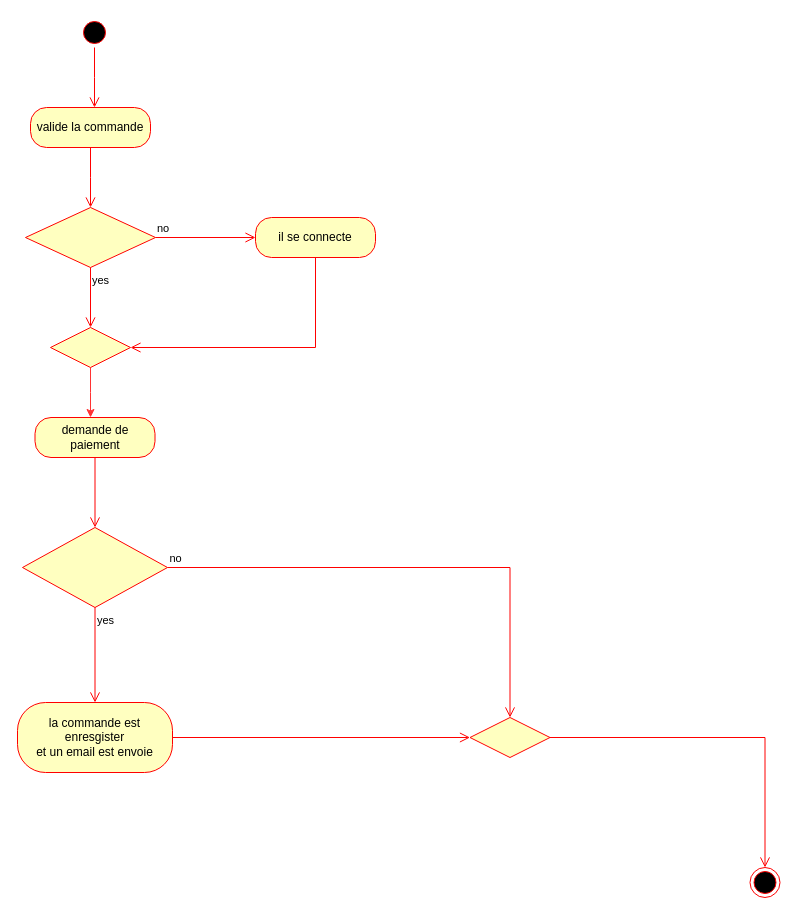
This 798x915 diagram has some shape labels left out. The box of each missing label's shape, as (x1, y1, x2, y2) in pixels:
client connecter: (24, 206, 156, 268)
il paie: (22, 526, 168, 608)
